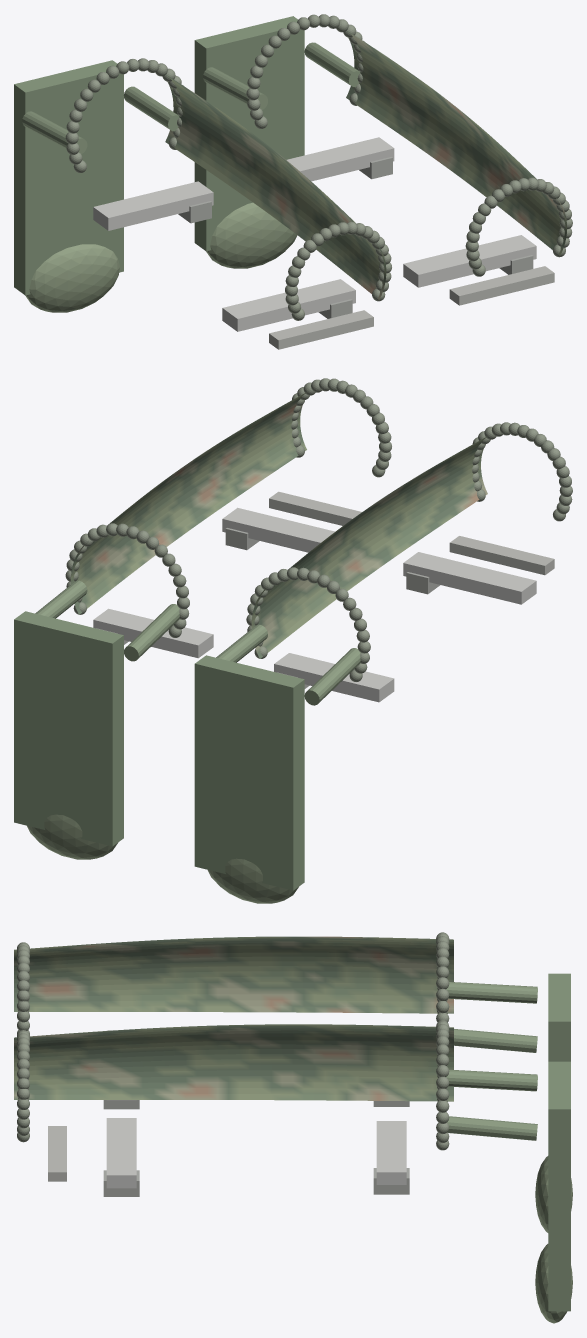
Rendered from ferulas90.glb.
The picture shows the model from 3 angles, top to bottom: view 1: azimuth 30°, elevation 25°; view 2: azimuth 150°, elevation 25°; view 3: azimuth 270°, elevation 25°; orthographic projection.
Parts seen in each view (by area): view 1: L_foot_plate, R_camo_calf_shell, L_camo_calf_shell, R_foot_plate, L_toe_cap, R_toe_cap, R_white_strap_2.48, L_white_strap_2.48, L_white_strap_1.05, R_white_strap_1.05, R_upper_padding, L_upper_padding (+6 smaller); view 2: L_foot_plate, R_foot_plate, R_camo_calf_shell, L_camo_calf_shell, L_white_strap_2.48, R_white_strap_2.48, L_white_strap_1.05, R_white_strap_1.05, R_toe_cap, L_toe_cap, L_upper_padding, R_upper_padding (+4 smaller); view 3: R_camo_calf_shell, L_camo_calf_shell, R_foot_plate, R_white_strap_2.48, L_foot_plate, R_white_strap_1.05, R_ankle_support_-1, L_ankle_support_-1, R_ankle_support_1, L_ankle_support_1, R_upper_padding, R_toe_cap (+2 smaller).
Part boxes in pixels (x1,y1,x2,y2): L_foot_plate: (14,60,123,295); R_camo_calf_shell: (346,30,566,255); L_camo_calf_shell: (165,74,386,299); R_foot_plate: (194,16,304,251); L_toe_cap: (25,244,119,312); R_toe_cap: (206,202,297,268); R_white_strap_2.48: (403,235,536,287); L_white_strap_2.48: (222,279,355,331); L_white_strap_1.05: (93,181,213,230); R_white_strap_1.05: (287,137,394,181); R_upper_padding: (449,266,554,305); L_upper_padding: (269,310,373,349); L_foot_plate: (194,655,304,890); R_foot_plate: (14,611,123,846); R_camo_calf_shell: (70,392,306,614); L_camo_calf_shell: (251,436,487,658); L_white_strap_2.48: (403,552,536,604); R_white_strap_2.48: (222,507,334,552); L_white_strap_1.05: (274,653,394,702); R_white_strap_1.05: (93,608,213,658); R_toe_cap: (27,814,117,859); L_toe_cap: (207,858,298,903); L_upper_padding: (449,536,554,575); R_upper_padding: (269,491,361,525); R_camo_calf_shell: (14,1024,453,1101); L_camo_calf_shell: (14,936,453,1013); R_foot_plate: (548,1061,570,1311); R_white_strap_2.48: (106,1118,136,1188); L_foot_plate: (548,973,570,1061); R_white_strap_1.05: (376,1121,406,1184); R_ankle_support_-1: (446,1069,537,1091); L_ankle_support_-1: (446,982,537,1003); R_ankle_support_1: (447,1116,537,1140); L_ankle_support_1: (454,1029,537,1052); R_upper_padding: (48,1126,66,1181); R_toe_cap: (535,1244,572,1323).
Size of the model in its own units: 1.85 by 1.69 by 2.96.
